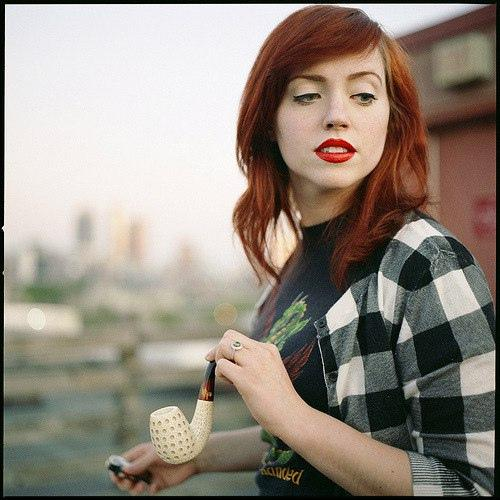trubka: (150, 363, 215, 464)
